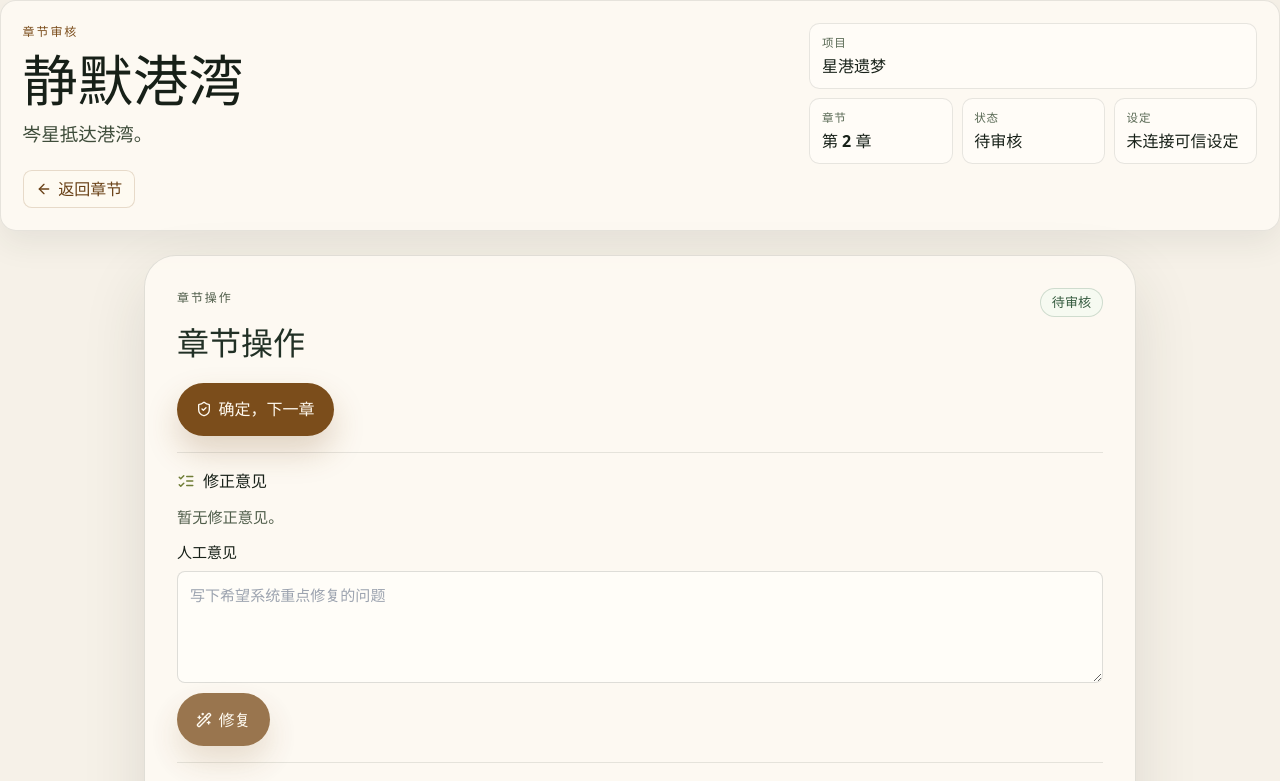
Test: approve action describes trusted-state write while pending
This screenshot has width=1280, height=781.
Expected: the heading "静默港湾" is shown, [23, 42, 243, 117]
Click the button "确定，下一章". click: (255, 409)
box: [177, 383, 334, 436]
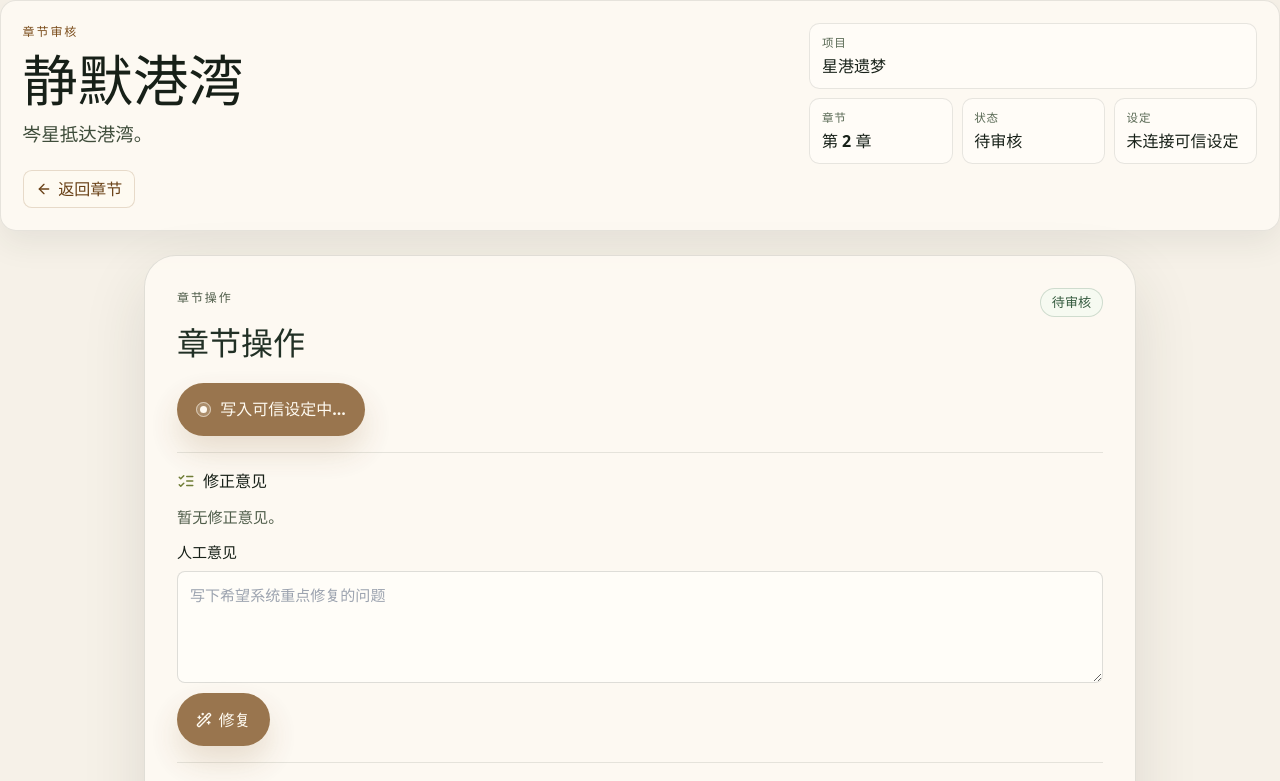
Result: the button "写入可信设定中..." is disabled at [177, 383, 365, 436]
